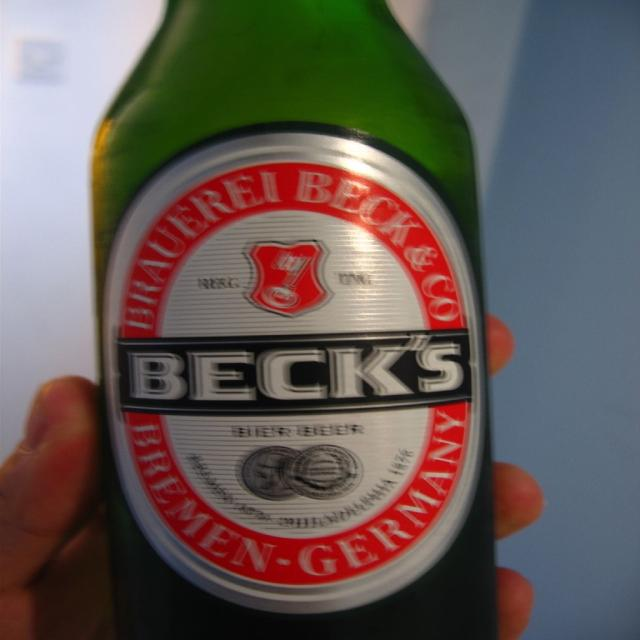becks: (103, 136, 484, 618)
